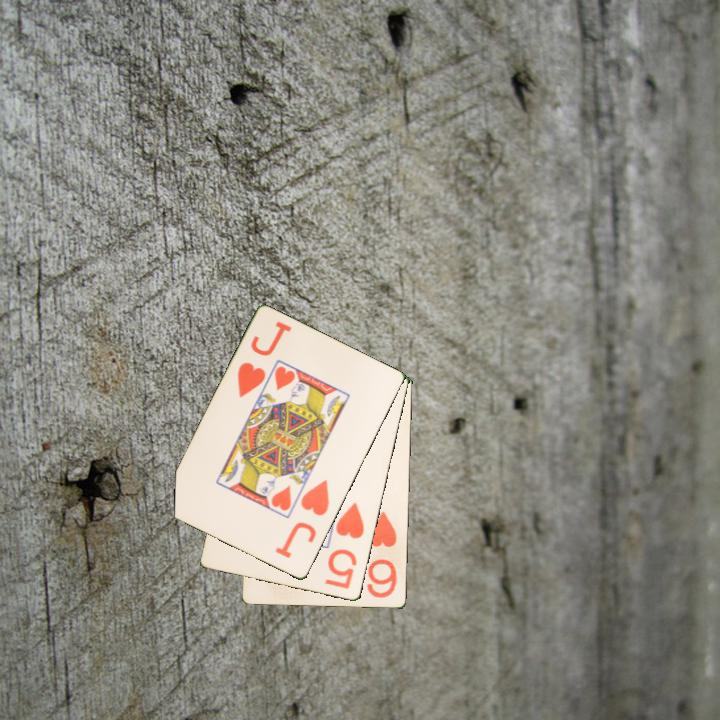5h: (321, 499, 367, 592)
6h: (365, 508, 403, 601)
Jh: (272, 476, 333, 562), (234, 359, 269, 401)
